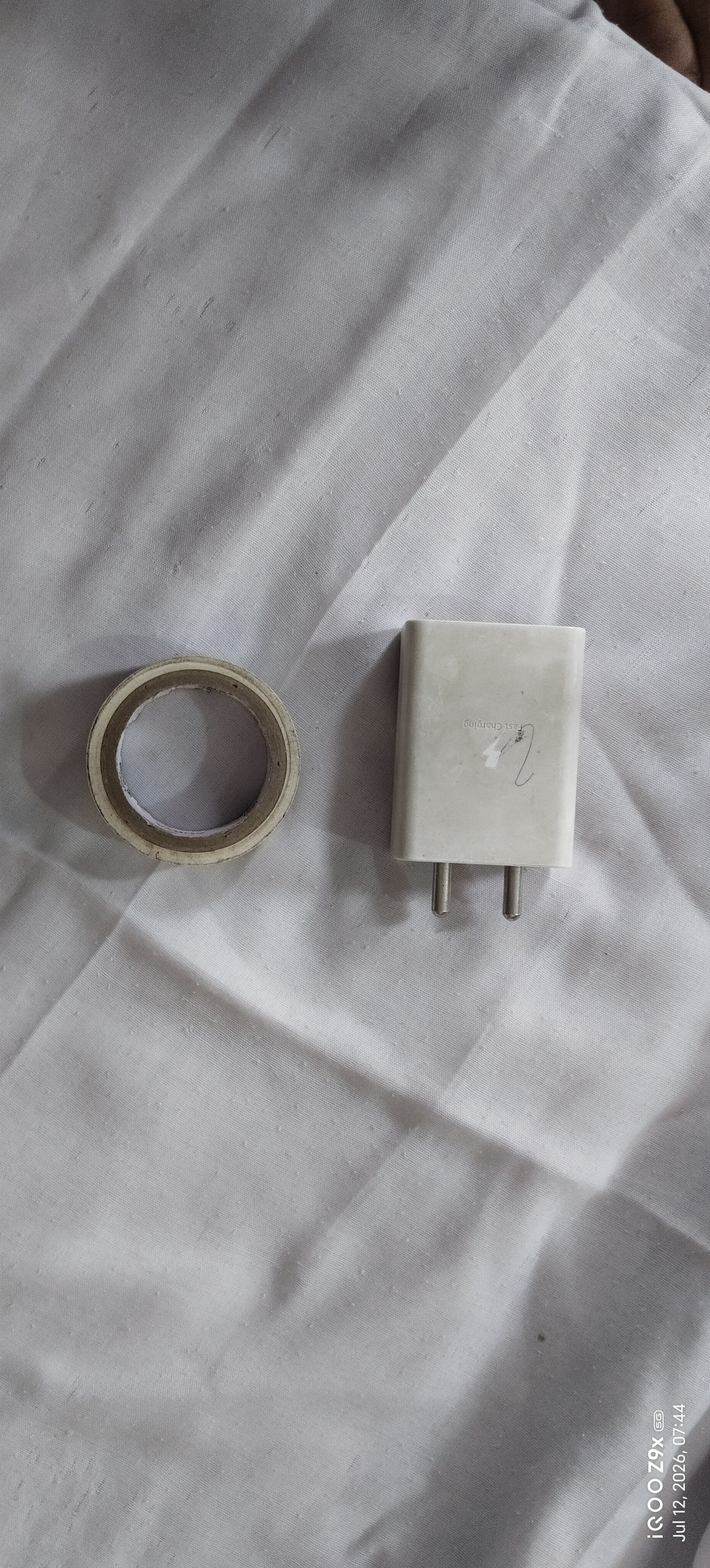charger: (359, 571, 611, 942)
tape_roll: (70, 643, 319, 898)
